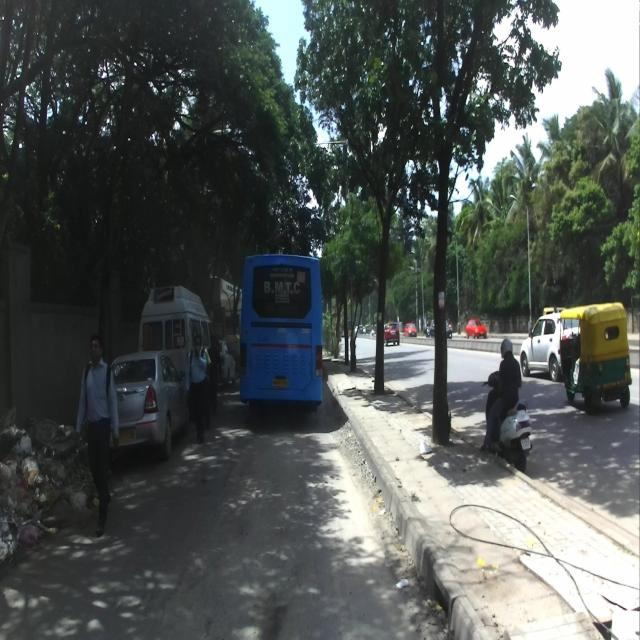autorickshaw: (558, 300, 632, 414)
bus: (238, 250, 324, 424)
car: (102, 350, 189, 460)
scooter: (481, 372, 532, 474)
